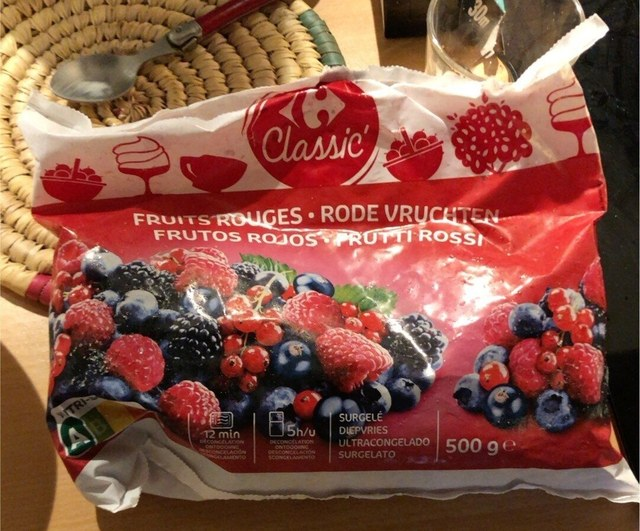Mix frutos rojos: (32, 27, 608, 504)
